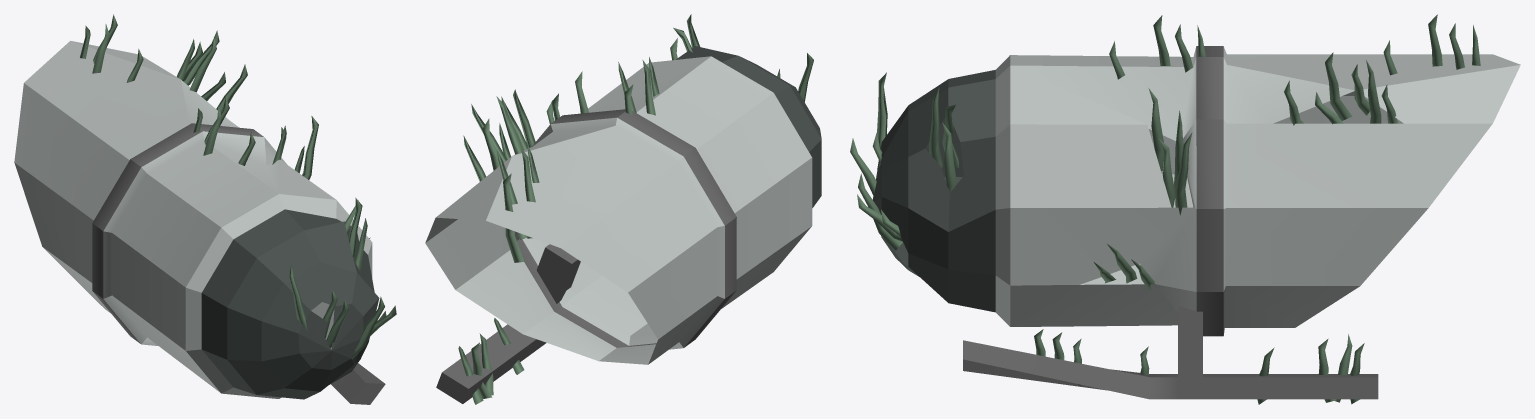
The model's file is oceangate_fin.fbx.
The picture shows the model from 3 angles, left to right: view 1: azimuth 30°, elevation 25°; view 2: azimuth 150°, elevation 25°; view 3: azimuth 270°, elevation 25°; orthographic projection. The views are drawn at different scales.
Visible parts, largest first — view 1: pCone39; view 2: pCone39; view 3: pCone39.
Part boxes in pixels (box(x1,y1,x2,y2)): pCone39: box(14, 14, 396, 404); pCone39: box(425, 14, 821, 404); pCone39: box(850, 14, 1520, 404).
Size of the model in its own units: 2.58 by 3.08 by 5.43.
